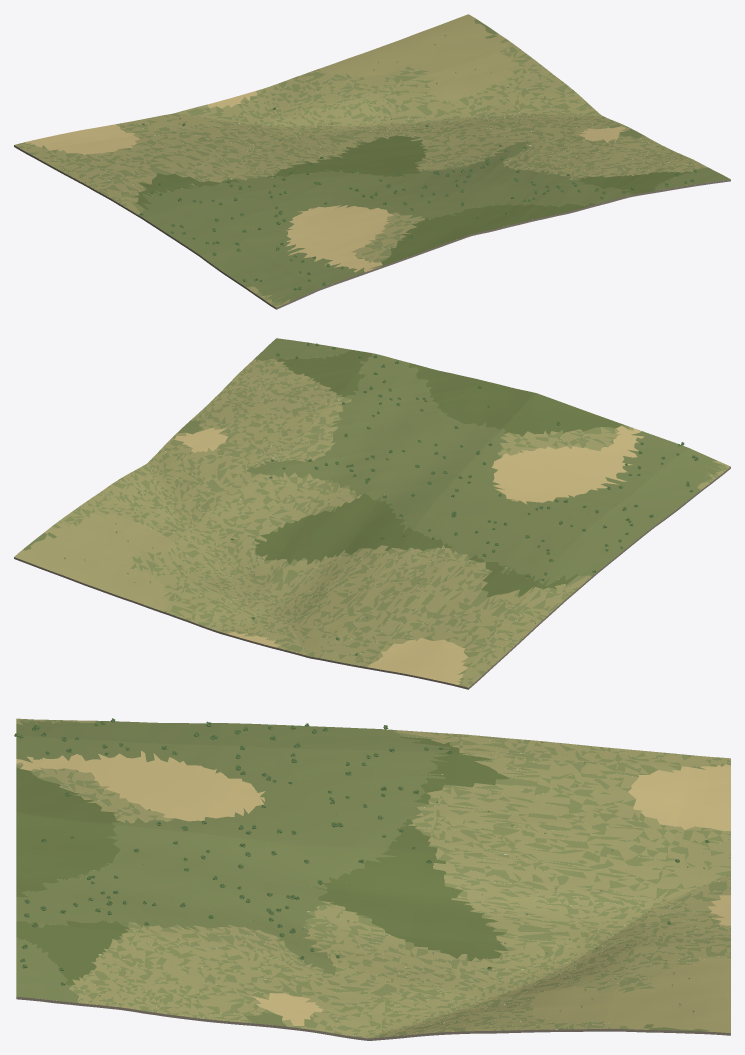
File: parca_+1_-5-yakin.glb
The picture shows the model from 3 angles, top to bottom: view 1: azimuth 30°, elevation 25°; view 2: azimuth 150°, elevation 25°; view 3: azimuth 270°, elevation 25°; orthographic projection. The views are drawn at different scales.
Parts seen in each view (by area): view 1: parca_+1_-5_arazi, parca_+1_-5_bitkiler; view 2: parca_+1_-5_arazi, parca_+1_-5_bitkiler; view 3: parca_+1_-5_arazi, parca_+1_-5_bitkiler.
Part boxes in pixels (x1,y1,x2,y2): parca_+1_-5_arazi: (14, 14, 730, 309); parca_+1_-5_bitkiler: (85, 35, 697, 290); parca_+1_-5_arazi: (14, 338, 730, 689); parca_+1_-5_bitkiler: (64, 342, 698, 655); parca_+1_-5_arazi: (16, 718, 730, 1040); parca_+1_-5_bitkiler: (14, 718, 708, 1026).
Bounding box in the file's own units: 1002 × 143 × 1003.
